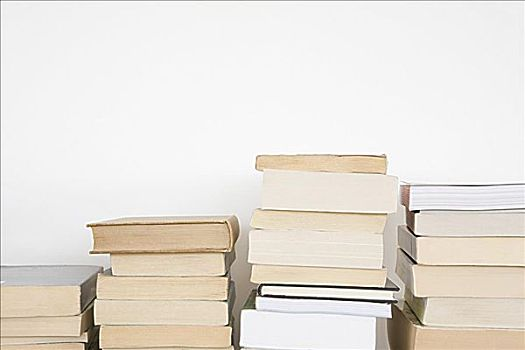book: (79, 210, 245, 258), (253, 168, 402, 215), (398, 173, 525, 211)
